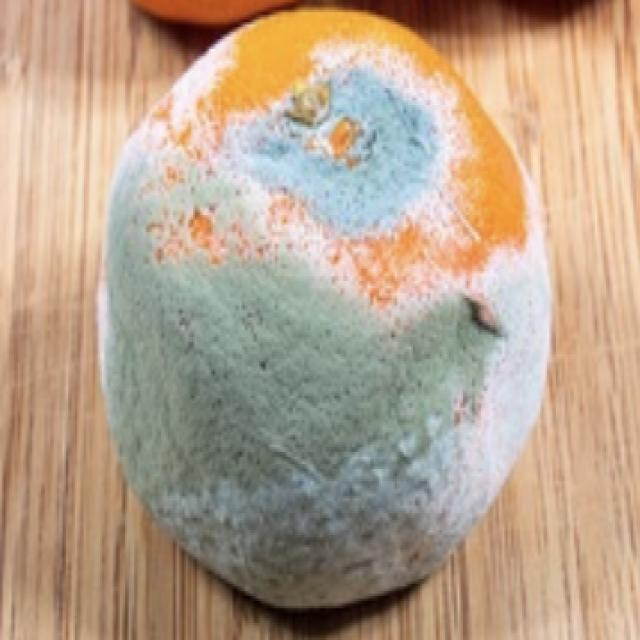rotten-orange: (98, 13, 547, 613)
